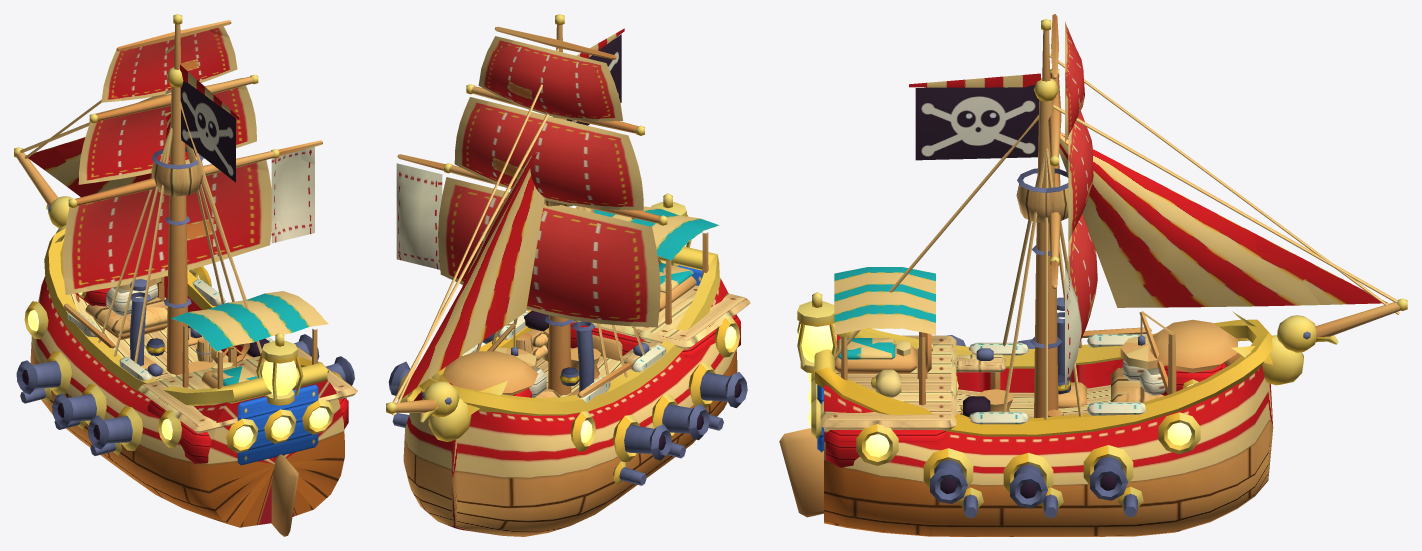
Rendered from player_sloop.glb.
3 renders of one model, left to right at view 1: azimuth 30°, elevation 25°; view 2: azimuth 150°, elevation 25°; view 3: azimuth 270°, elevation 25°, orthographic. The views are drawn at different scales.
Parts seen in each view (by area): view 1: Hull, Sail0_0, Rigging, Slot_infirmary, Sail0_1, Slot_rigging_Sail0, Guns0, Flag, Slot_rigging_Sail1, Jib, Slot_hold, Slot_rigging (+4 smaller); view 2: Hull, Sail0_0, Sail0_1, Jib, Slot_rigging_Sail0, Rigging, Guns0, Slot_rigging_Sail1, Slot_quarters, Slot_infirmary, Slot_rigging, Slot_workshop (+4 smaller); view 3: Hull, Jib, Rigging, Slot_infirmary, Flag, Slot_quarters, Guns0, Slot_hold, Slot_rigging, Sail0_1, Sail0_0, Slot_workshop (+4 smaller).
Boxes of the visible parts, left/top/right/bottom form: Hull: left=24, top=196, right=357, bottom=536; Sail0_0: left=63, top=160, right=271, bottom=294; Rigging: left=14, top=67, right=279, bottom=374; Slot_infirmary: left=171, top=291, right=328, bottom=388; Sail0_1: left=78, top=77, right=256, bottom=184; Slot_rigging_Sail0: left=101, top=26, right=237, bottom=102; Guns0: left=16, top=334, right=354, bottom=449; Flag: left=180, top=64, right=238, bottom=182; Slot_rigging_Sail1: left=271, top=146, right=314, bottom=243; Jib: left=25, top=110, right=170, bottom=197; Slot_hold: left=85, top=277, right=167, bottom=335; Slot_rigging: left=19, top=14, right=322, bottom=162; Hull: left=398, top=193, right=750, bottom=536; Sail0_0: left=438, top=177, right=660, bottom=327; Sail0_1: left=454, top=97, right=643, bottom=210; Jib: left=398, top=152, right=544, bottom=400; Slot_rigging_Sail0: left=478, top=36, right=622, bottom=121; Rigging: left=386, top=84, right=667, bottom=413; Guns0: left=388, top=333, right=747, bottom=460; Slot_rigging_Sail1: left=396, top=163, right=442, bottom=269; Slot_quarters: left=442, top=312, right=666, bottom=403; Slot_infirmary: left=575, top=206, right=719, bottom=324; Slot_rigging: left=392, top=14, right=616, bottom=415; Slot_workshop: left=524, top=310, right=661, bottom=397; Hull: left=779, top=292, right=1338, bottom=536; Jib: left=1059, top=132, right=1388, bottom=307; Rigging: left=835, top=69, right=1407, bottom=419; Slot_infirmary: left=834, top=267, right=935, bottom=405; Flag: left=909, top=73, right=1040, bottom=160; Slot_quarters: left=969, top=319, right=1237, bottom=424; Guns0: left=930, top=335, right=1127, bottom=508; Slot_hold: left=1111, top=311, right=1176, bottom=402; Slot_rigging: left=1041, top=14, right=1399, bottom=314; Sail0_1: left=1068, top=111, right=1093, bottom=241; Sail0_0: left=1068, top=214, right=1097, bottom=341; Slot_workshop: left=956, top=327, right=1151, bottom=416.
Size of the model in its own units: 2.12 by 3.24 by 3.71.
Materials: 8 (8 with a texture image).
